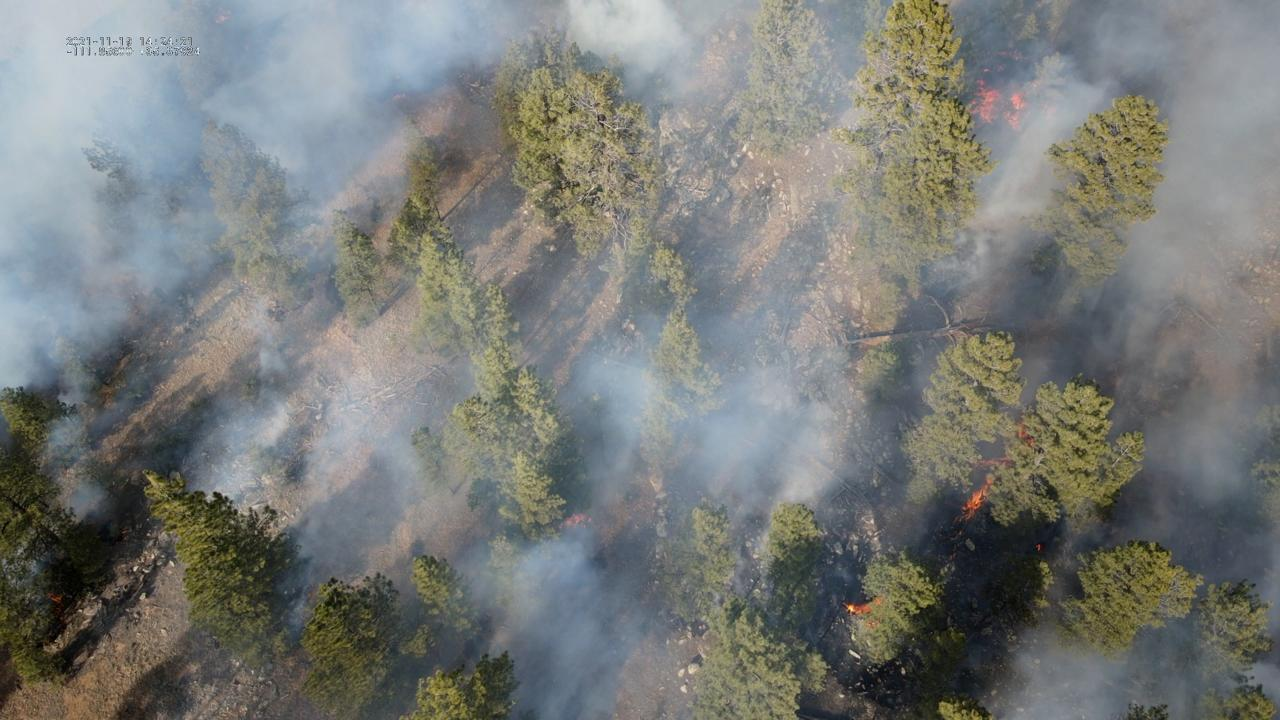fire: (970, 79, 1025, 131), (958, 479, 991, 523), (845, 597, 883, 617), (557, 512, 594, 532), (974, 457, 1017, 469), (1016, 423, 1034, 444), (48, 590, 65, 608), (1035, 542, 1041, 553), (983, 68, 991, 73)
smoke: (0, 0, 1280, 720)
